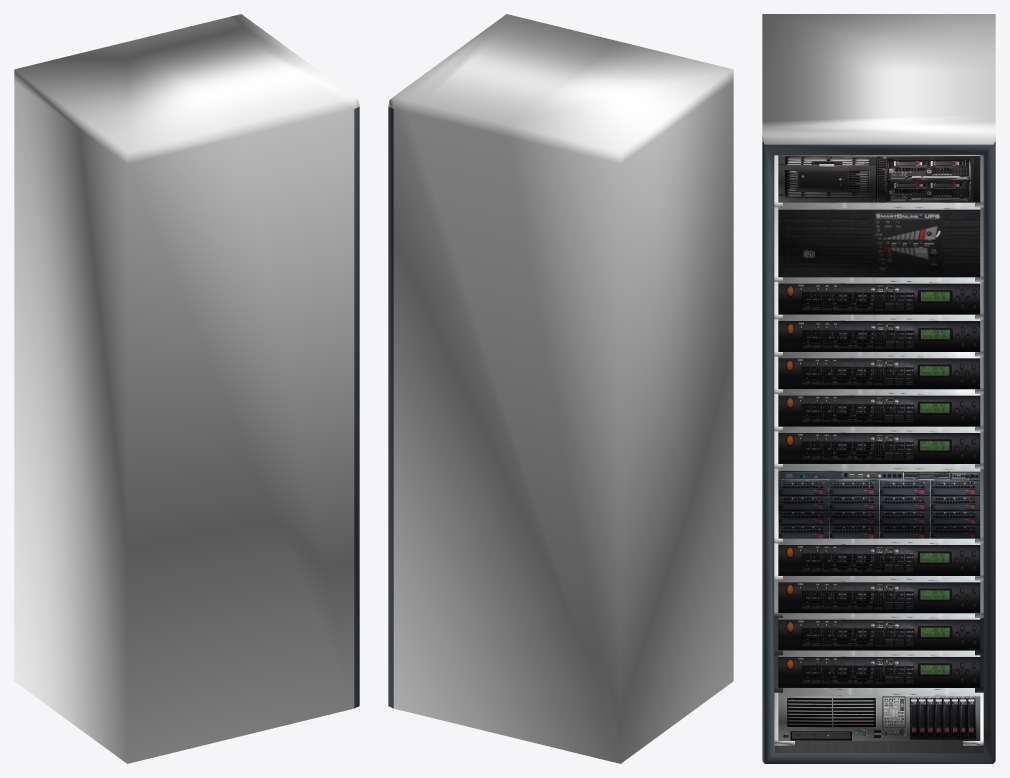
Rendered from server_rack_edit.glb.
3 renders of one model, left to right at view 1: azimuth 30°, elevation 25°; view 2: azimuth 150°, elevation 25°; view 3: azimuth 270°, elevation 25°, orthographic. The views are drawn at different scales.
Parts seen in each view (by area): view 1: rack; view 2: rack; view 3: rack, ups, 2u_nas1, misc1, misc2, 1u_server3, 1u_server7, 1u_server1, 1u_server2, 1u_server4, 1u_server5, 1u_server6 (+2 smaller).
Part boxes in pixels (x1=…): rack: x1=14, y1=14, x2=359, y2=763; rack: x1=388, y1=14, x2=733, y2=763; rack: x1=762, y1=14, x2=995, y2=763; ups: x1=778, y1=202, x2=980, y2=277; 2u_nas1: x1=778, y1=464, x2=980, y2=538; misc1: x1=778, y1=688, x2=980, y2=740; misc2: x1=778, y1=155, x2=980, y2=202; 1u_server3: x1=778, y1=576, x2=980, y2=613; 1u_server7: x1=778, y1=352, x2=980, y2=389; 1u_server1: x1=778, y1=650, x2=980, y2=687; 1u_server2: x1=778, y1=613, x2=980, y2=650; 1u_server4: x1=778, y1=538, x2=980, y2=575; 1u_server5: x1=778, y1=426, x2=980, y2=463; 1u_server6: x1=778, y1=389, x2=980, y2=426.
Bounding box in the file's own units: 2.06 × 5.15 × 1.72.
Materials: 2 (2 with a texture image).
